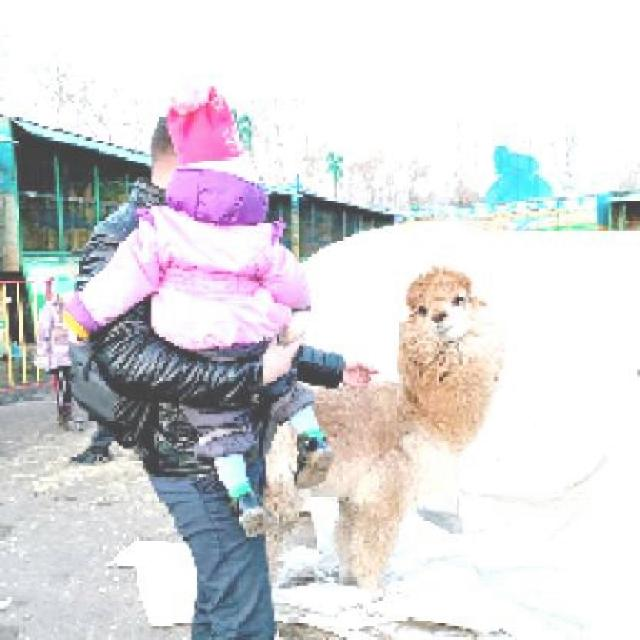child: (61, 70, 336, 539), (34, 272, 86, 434)
